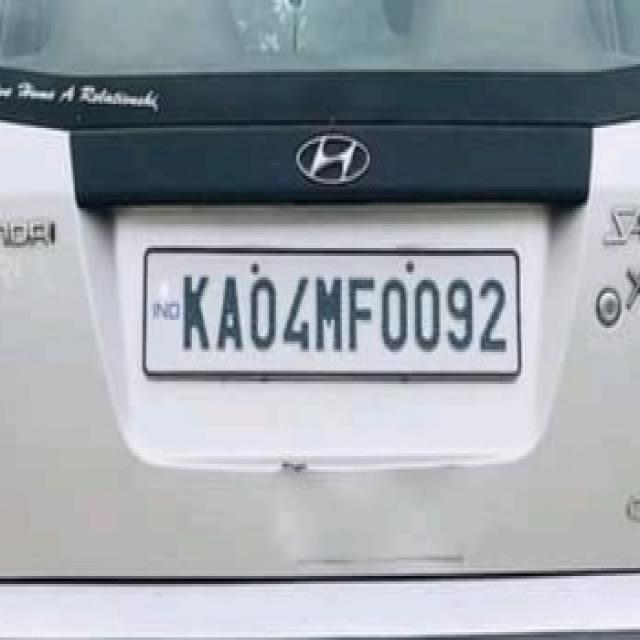0: (378, 270, 411, 366), (248, 270, 280, 355), (413, 274, 442, 354)
4: (280, 268, 315, 358)
9: (443, 266, 476, 358)
A: (211, 268, 245, 356)
F: (344, 270, 378, 352)
K: (178, 266, 212, 358)
M: (310, 266, 346, 358)
